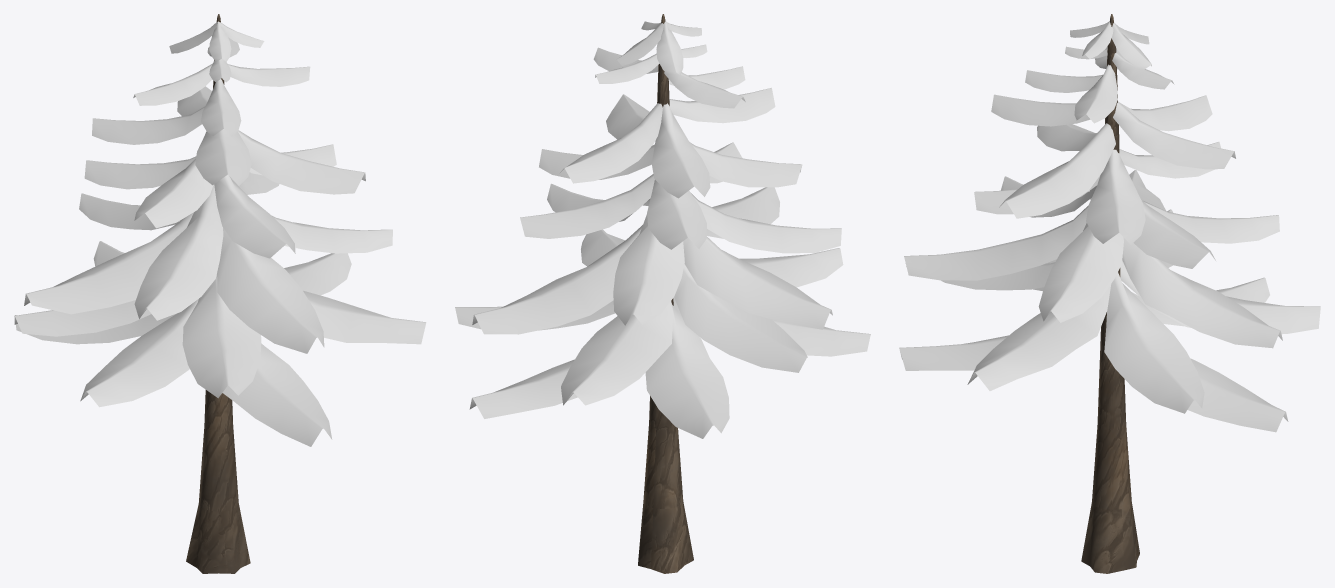
File: tree01_main.fbx
3 renders of one model, left to right at view 1: azimuth 30°, elevation 25°; view 2: azimuth 150°, elevation 25°; view 3: azimuth 270°, elevation 25°, orthographic.
Visible parts, largest first — view 1: Cylinder; view 2: Cylinder; view 3: Cylinder.
Boxes of the visible parts, x1=… form: Cylinder: x1=14, y1=14, x2=426, y2=573; Cylinder: x1=455, y1=14, x2=870, y2=573; Cylinder: x1=899, y1=14, x2=1320, y2=573.
Bounding box in the file's own units: 321 × 481 × 336.
